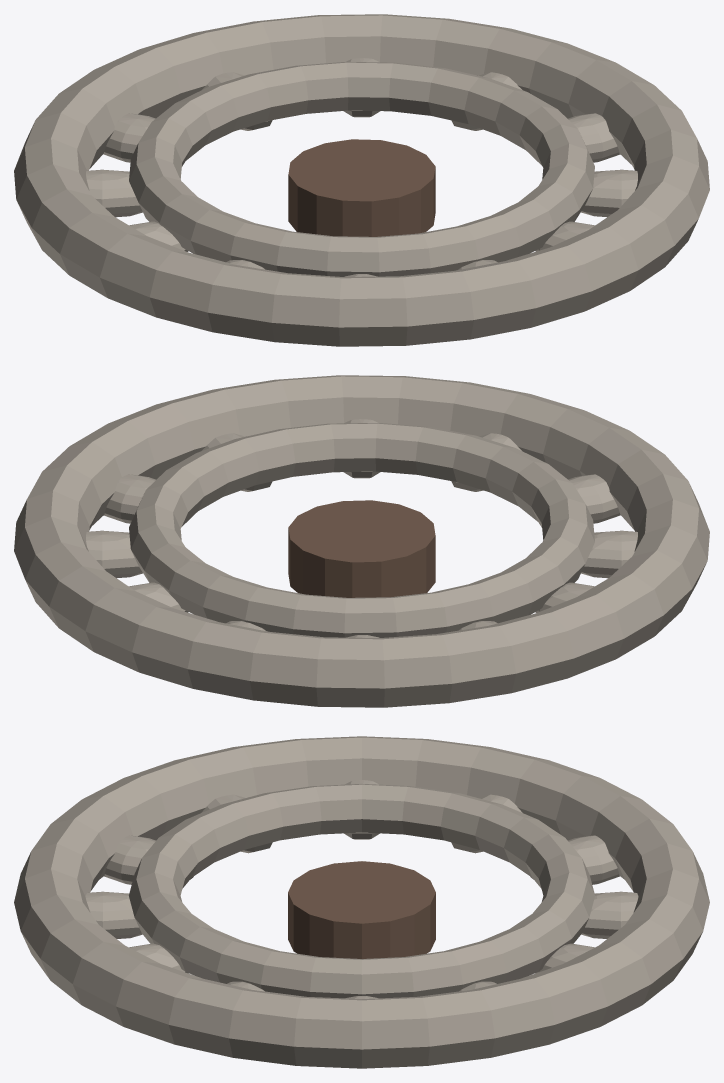
3 renders of one model, top to bottom at view 1: azimuth 30°, elevation 25°; view 2: azimuth 150°, elevation 25°; view 3: azimuth 270°, elevation 25°, orthographic.
Visible parts, largest first — view 1: medallion; view 2: medallion; view 3: medallion.
Part boxes in pixels (x1=…): medallion: x1=14, y1=14, x2=709, y2=346; medallion: x1=14, y1=375, x2=709, y2=707; medallion: x1=14, y1=736, x2=709, y2=1068.
Bounding box in the file's own units: 0.94 × 0.105 × 0.94.
